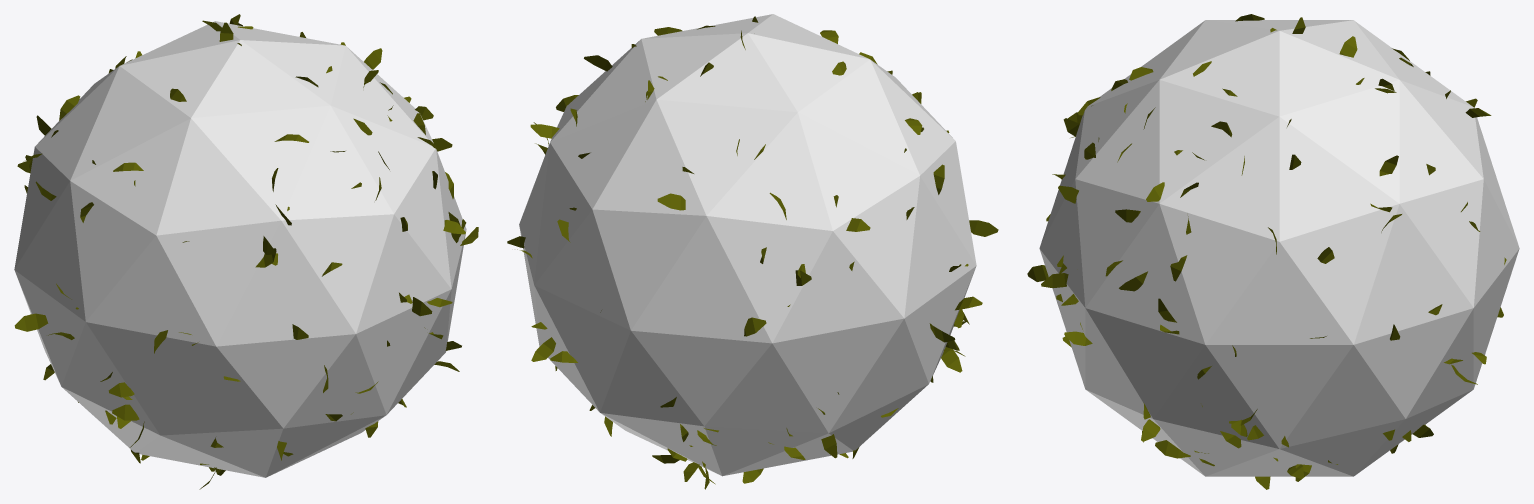
File: mod_BG_Buisson_01 (1).fbx
3 renders of one model, left to right at view 1: azimuth 30°, elevation 25°; view 2: azimuth 150°, elevation 25°; view 3: azimuth 270°, elevation 25°, orthographic. The views are drawn at different scales.
Parts seen in each view (by area): view 1: Buisson; view 2: Buisson; view 3: Buisson.
Part boxes in pixels (x1,y1,x2,y2): Buisson: (14,21,466,477); Buisson: (519,14,976,476); Buisson: (1039,20,1519,476).
Bounding box in the file's own units: 104 × 104 × 103.
